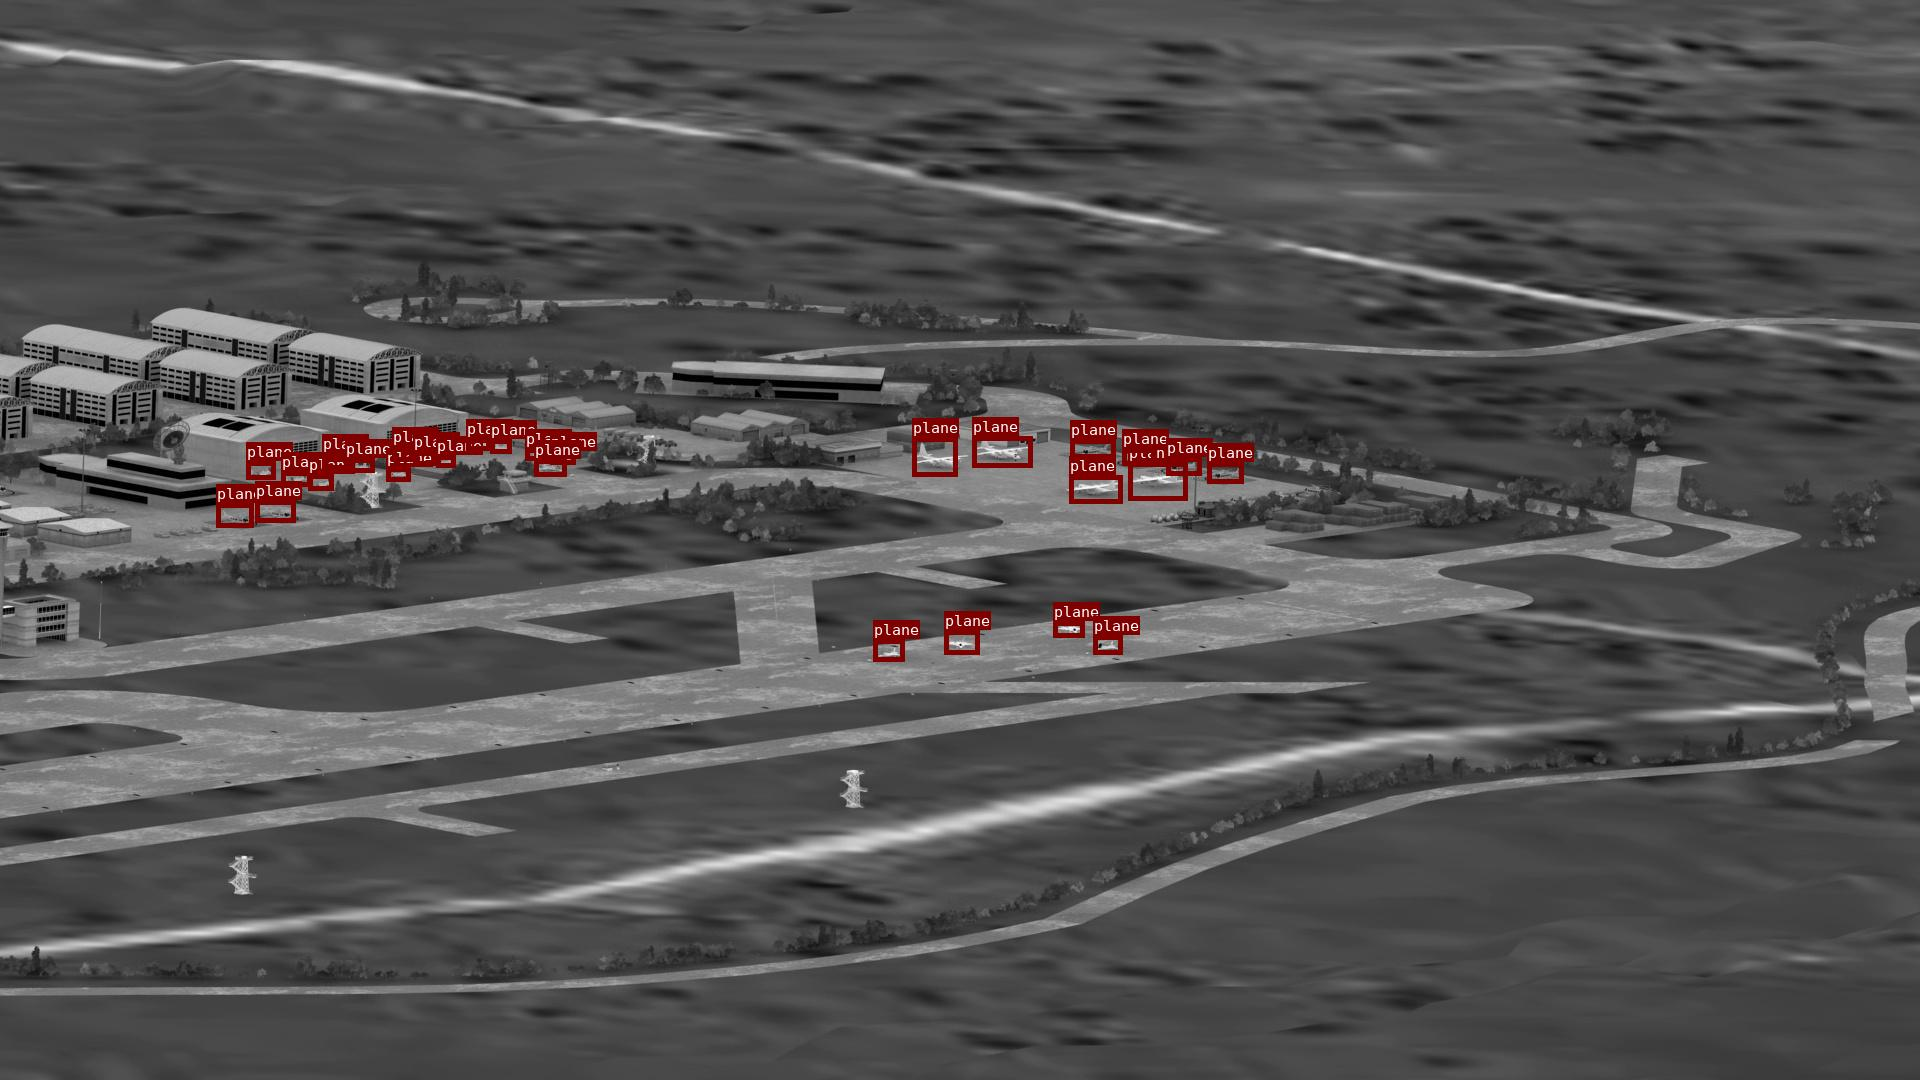plane: (1127, 462, 1187, 500), (972, 436, 1033, 467), (913, 436, 957, 476), (1069, 475, 1122, 502), (216, 502, 253, 527), (255, 500, 295, 522), (1069, 439, 1116, 458), (944, 630, 978, 654), (1207, 462, 1244, 483), (873, 640, 905, 661), (1166, 458, 1201, 475), (1122, 448, 1155, 465), (534, 459, 566, 476), (1093, 636, 1122, 654), (322, 454, 353, 469), (247, 462, 276, 479), (1054, 621, 1084, 637), (281, 471, 311, 487), (309, 473, 334, 491), (345, 458, 375, 472), (386, 467, 410, 481), (413, 451, 436, 465), (392, 446, 413, 462), (550, 451, 575, 464), (491, 439, 512, 454), (465, 438, 491, 450), (525, 448, 549, 460), (436, 455, 455, 467)
